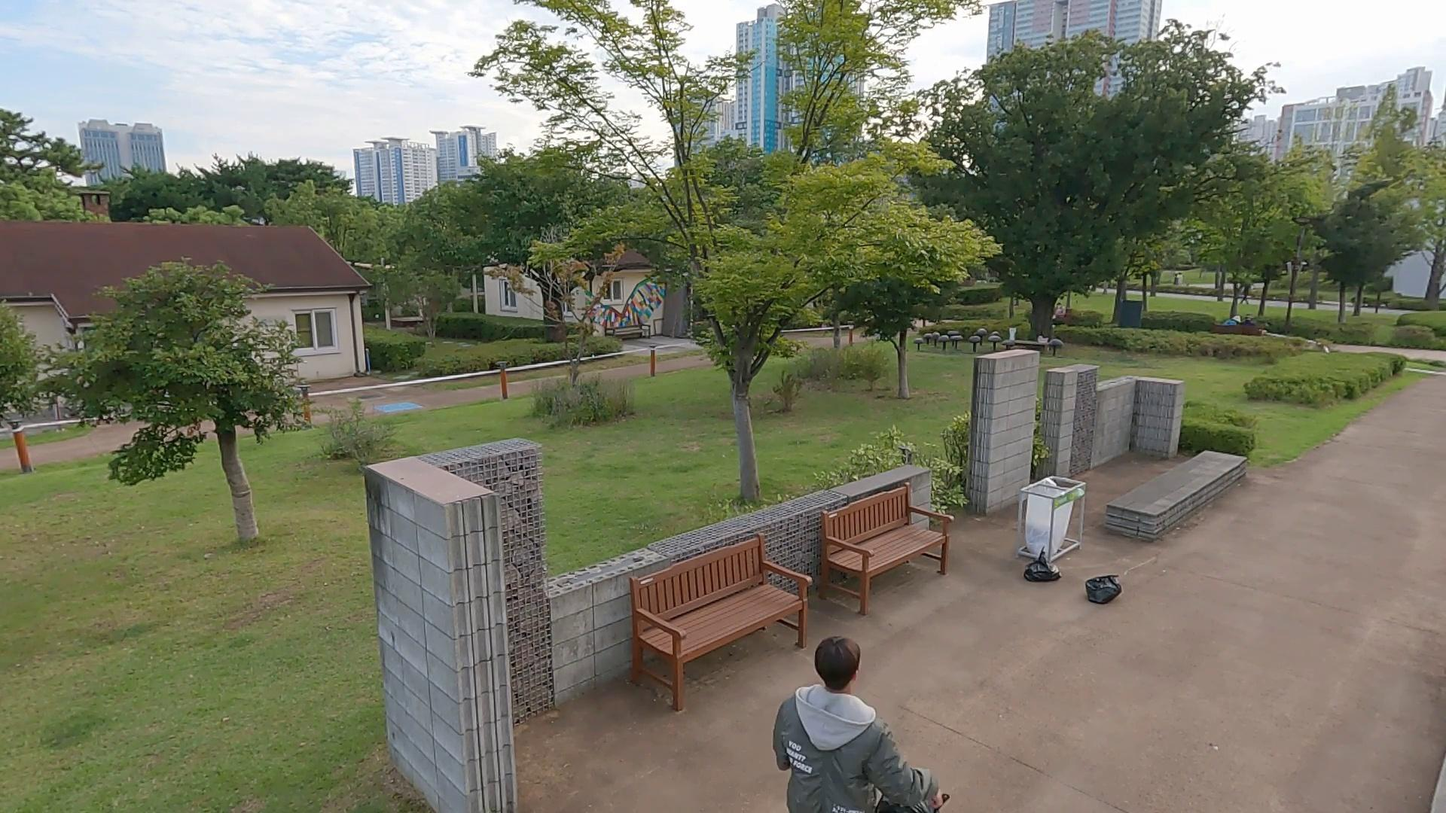person: (765, 629, 948, 813)
trash: (1083, 565, 1127, 606), (1019, 553, 1064, 587)
